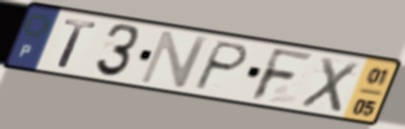3: (94, 23, 142, 80)
F: (247, 45, 318, 104)
N: (137, 29, 212, 89)
P: (190, 39, 252, 93)
T: (54, 16, 100, 70)
X: (297, 54, 362, 115)
